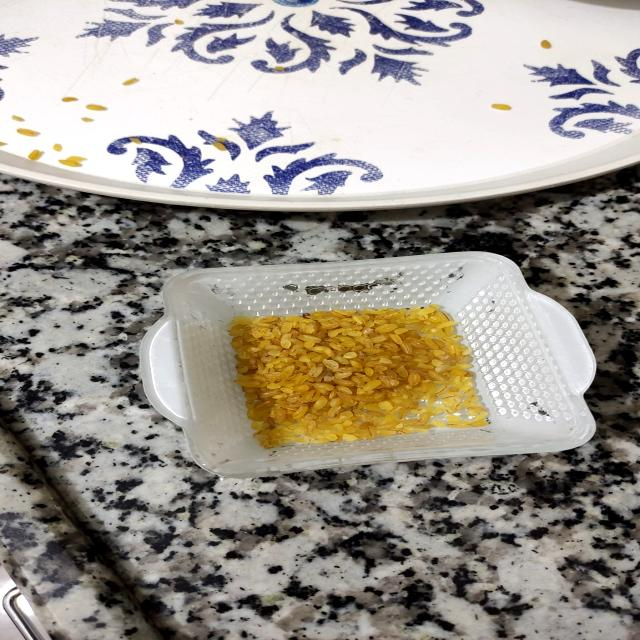bulgur: (163, 260, 590, 467)
